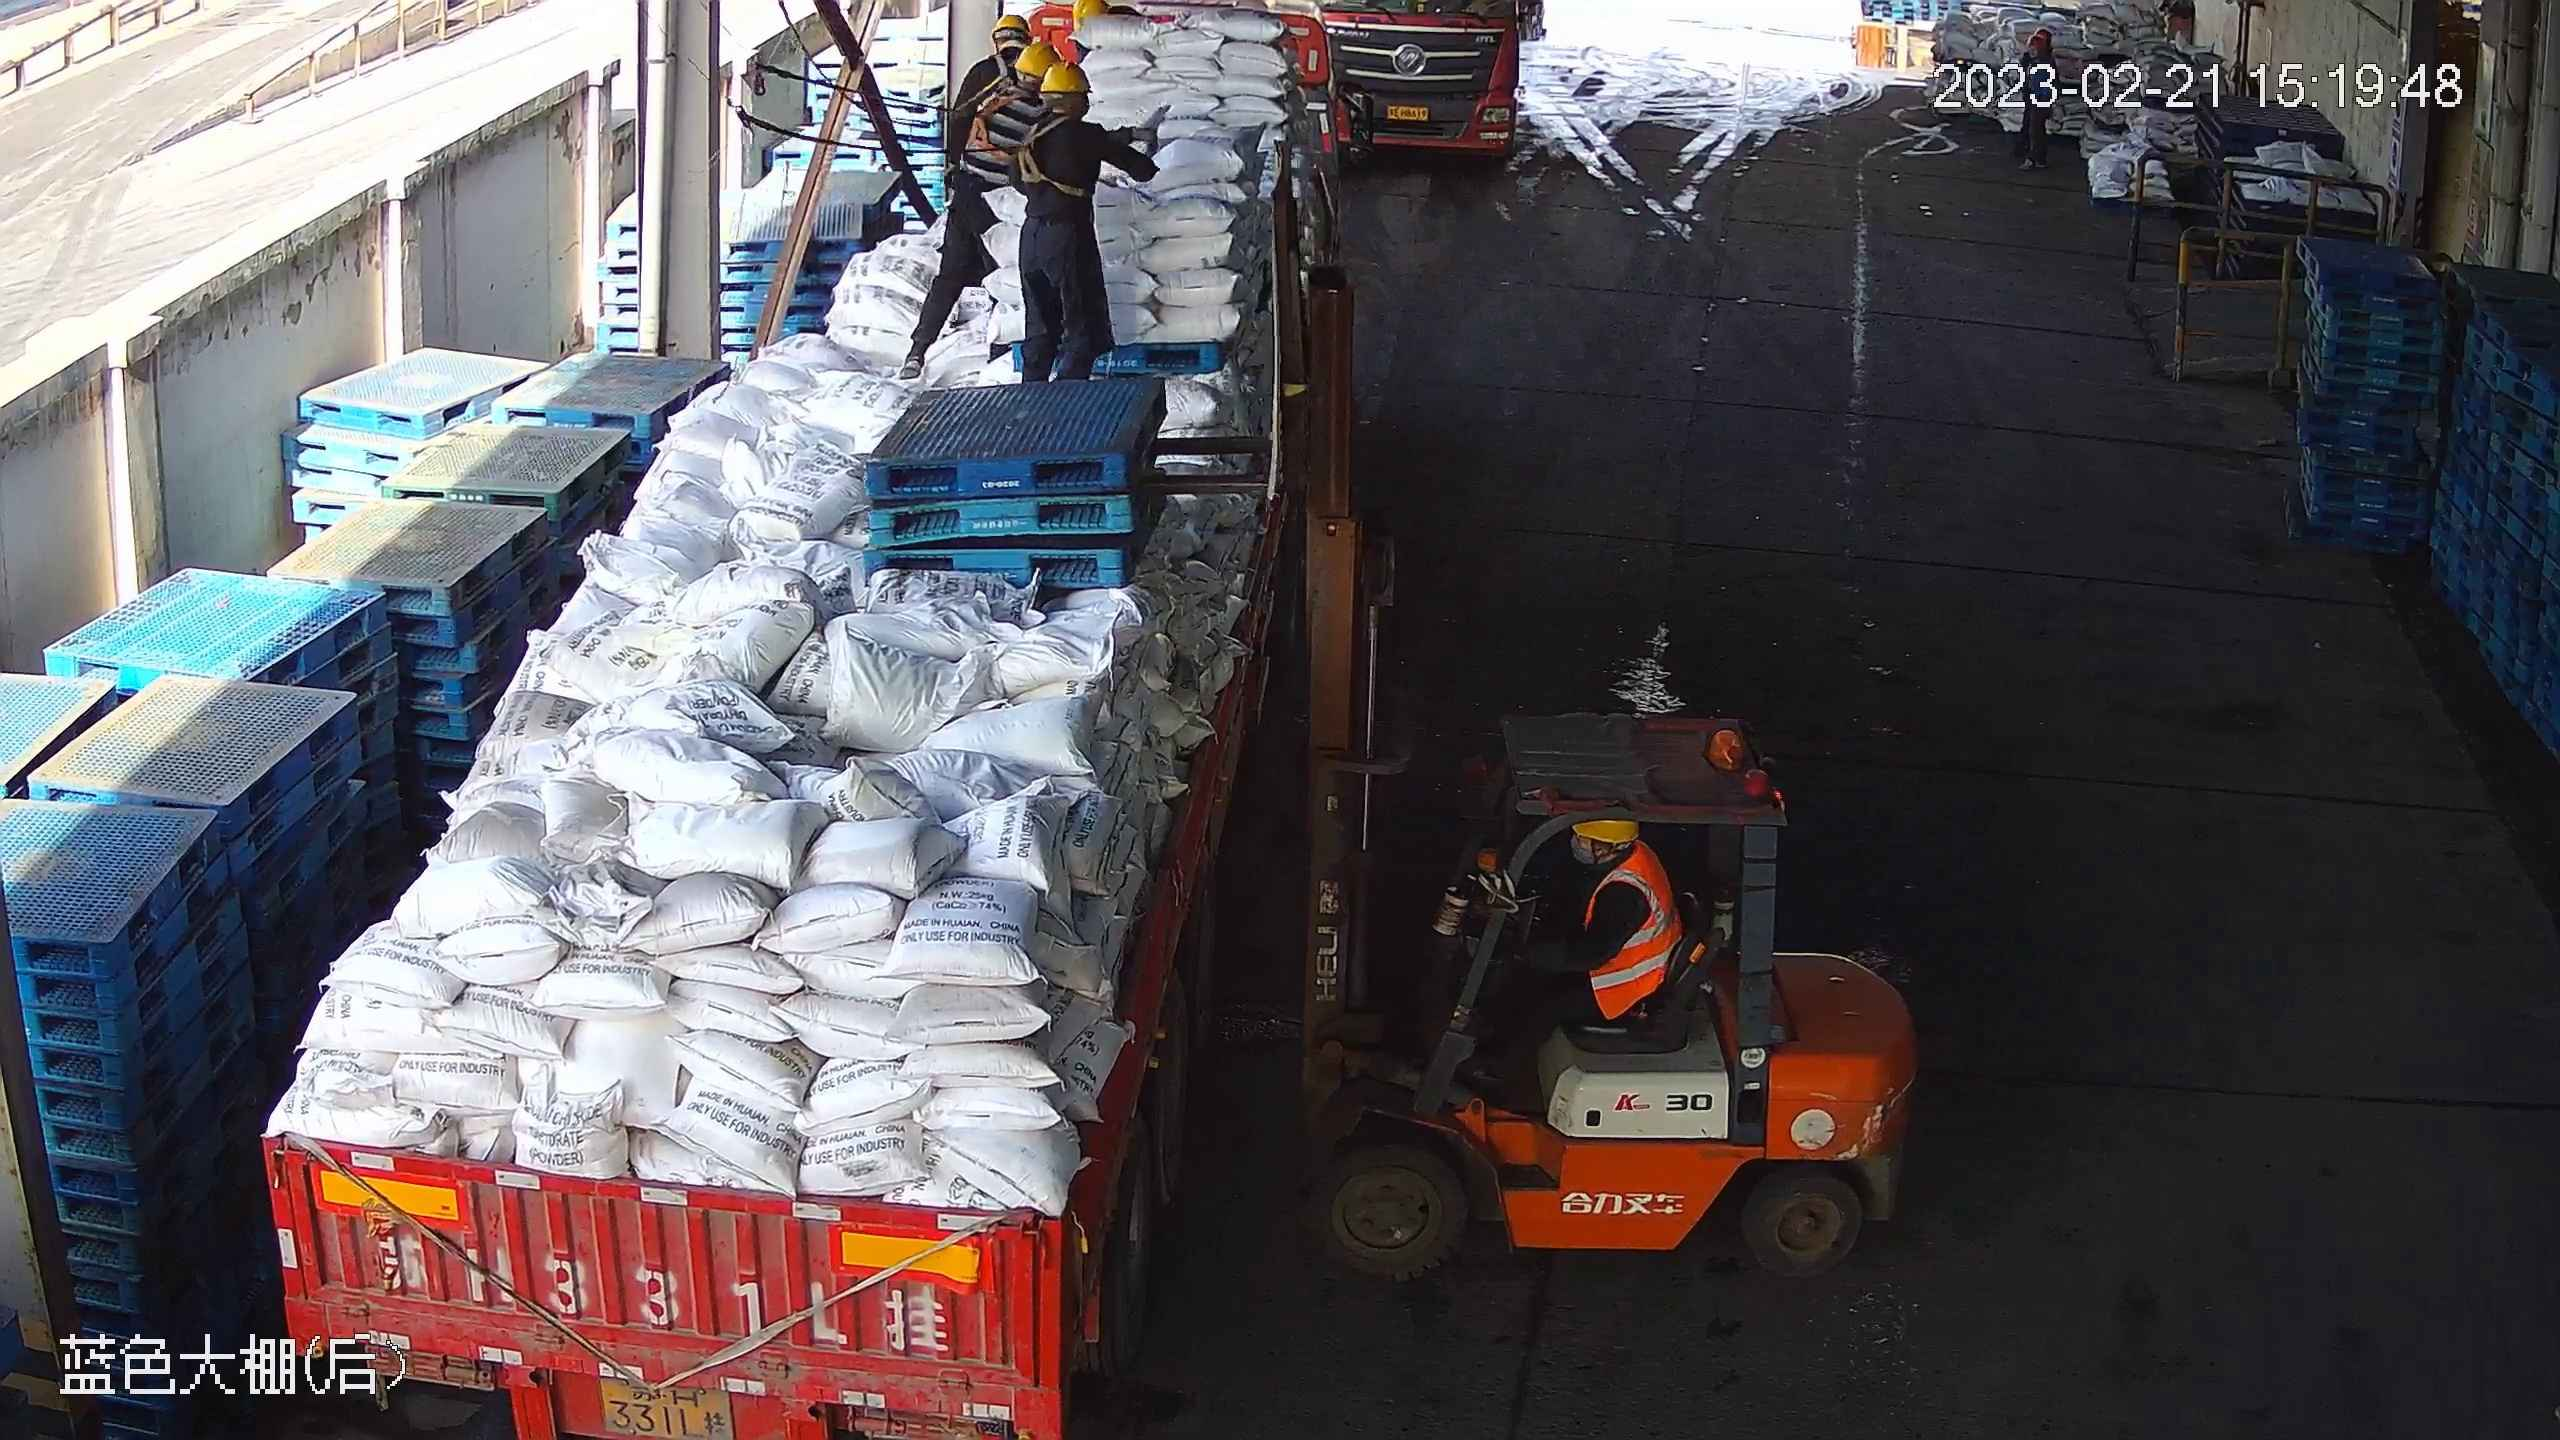belt: (1019, 117, 1086, 201), (967, 94, 1013, 153), (956, 62, 1011, 98)
head: (1551, 817, 1680, 927), (1026, 62, 1120, 159)
helmet: (1037, 58, 1094, 98), (1014, 40, 1057, 75), (991, 10, 1033, 44)
people: (1490, 814, 1692, 1095), (1018, 58, 1153, 382)
truck: (261, 4, 1346, 1440), (1309, 1, 1530, 166)
